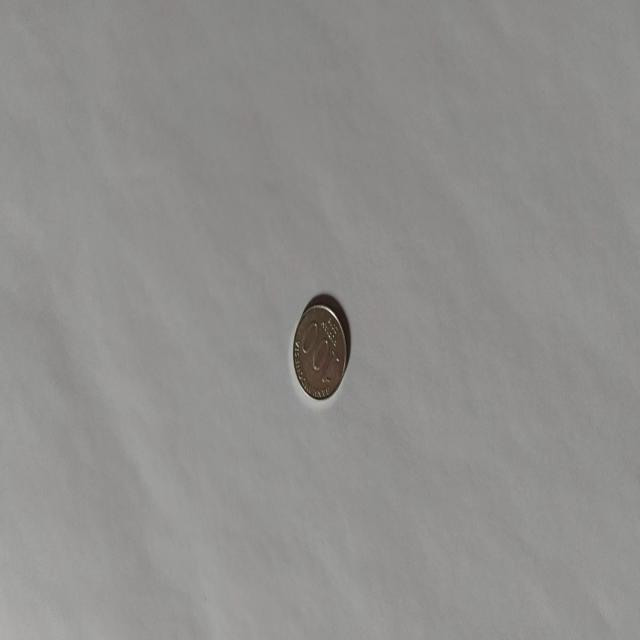seratus rupiah: (291, 301, 347, 401)
